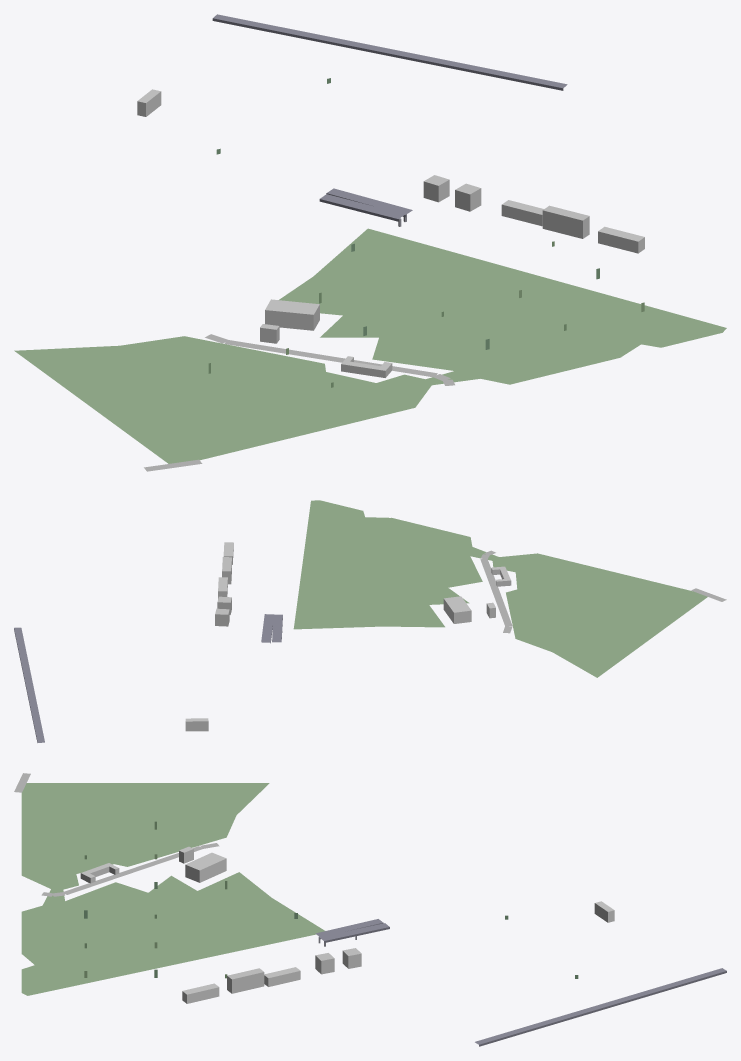
The picture shows the model from 3 angles, top to bottom: view 1: azimuth 30°, elevation 25°; view 2: azimuth 150°, elevation 25°; view 3: azimuth 270°, elevation 25°; orthographic projection. The views are drawn at different scales.
Bounding box in the file's own units: 550 × 14.6 × 610.
